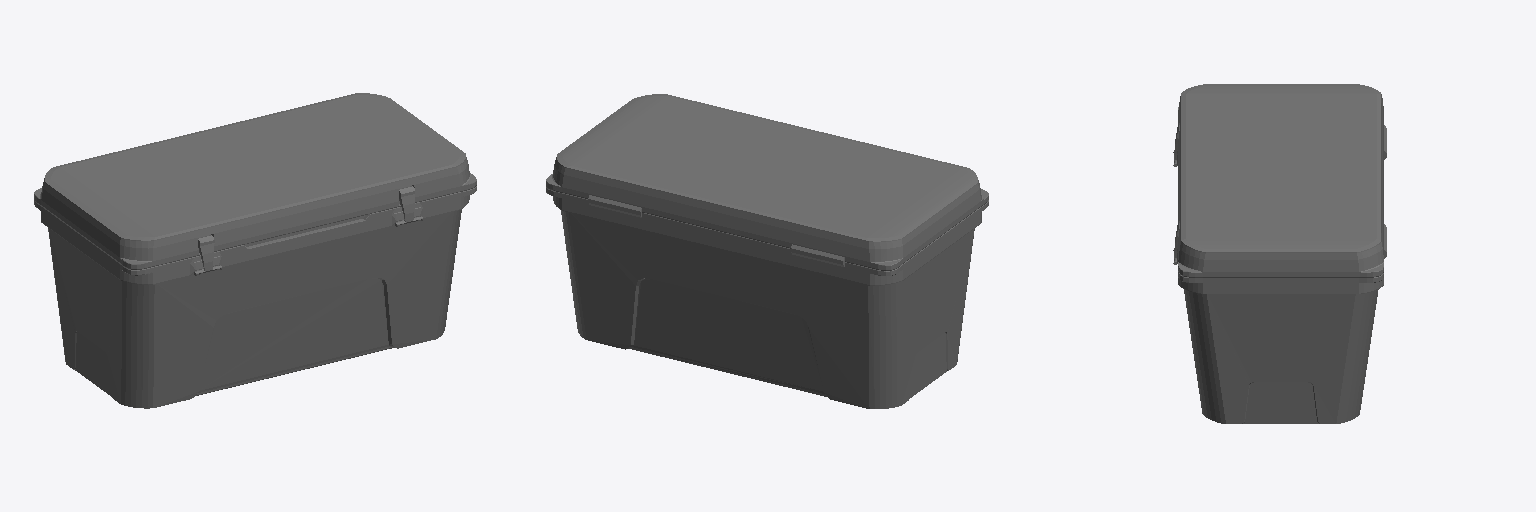
The model's file is large_cooler.obj.
3 renders of one model, left to right at view 1: azimuth 30°, elevation 25°; view 2: azimuth 150°, elevation 25°; view 3: azimuth 270°, elevation 25°, orthographic.
Parts seen in each view (by area): view 1: pCube1, pCube2, pCylinder5, pCylinder11; view 2: pCube1, pCube2, pCylinder7, pCylinder12; view 3: pCube2, pCube1.
Boxes of the visible parts, x1=… form: pCube1: x1=34, y1=186, x2=476, y2=408; pCube2: x1=34, y1=93, x2=476, y2=269; pCylinder5: x1=194, y1=235, x2=221, y2=275; pCylinder11: x1=395, y1=186, x2=422, y2=226; pCube1: x1=546, y1=187, x2=988, y2=408; pCube2: x1=546, y1=94, x2=988, y2=270; pCylinder7: x1=791, y1=244, x2=844, y2=266; pCylinder12: x1=588, y1=195, x2=641, y2=217; pCube2: x1=1178, y1=84, x2=1383, y2=277; pCube1: x1=1177, y1=151, x2=1383, y2=423.
Size of the model in its own units: 1.04 by 0.5101 by 0.5509.